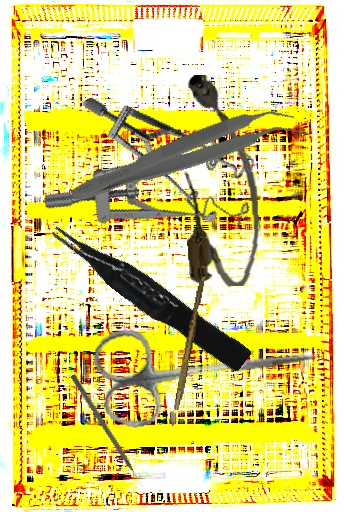Cannula: (175, 71, 264, 290)
Iris Scissors: (90, 302, 326, 434)
Pusher: (69, 373, 145, 490)
Scalpel Handle: (173, 280, 206, 411)
Speculum: (41, 97, 266, 266), (79, 52, 262, 251)
Tissue Forceps: (47, 209, 253, 381), (66, 96, 301, 218)
